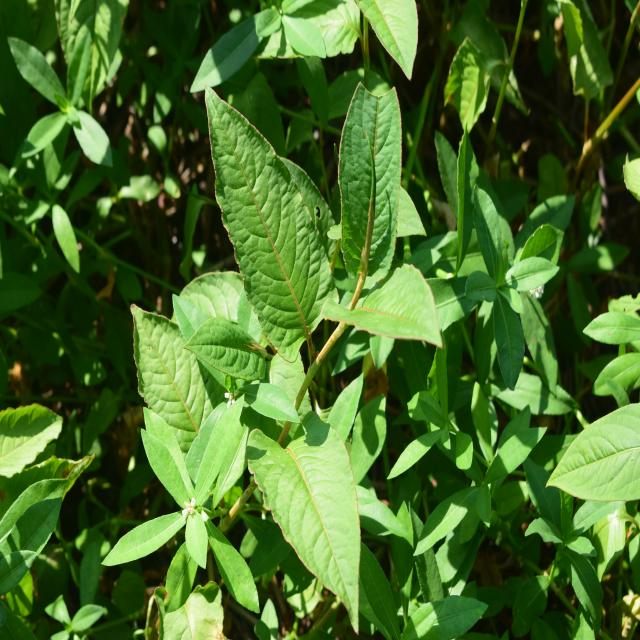Chinese_knotweed: (202, 65, 416, 556)
